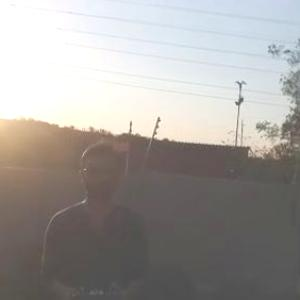follow: (33, 136, 157, 299)
